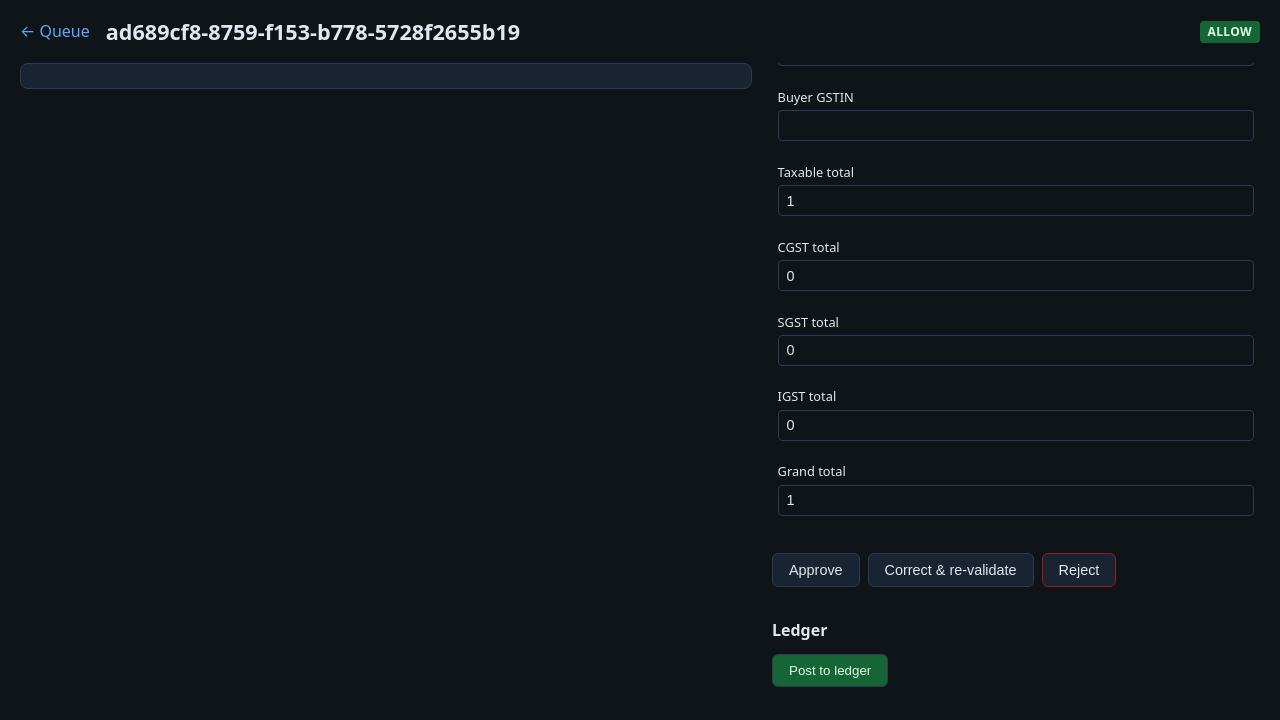
Test: InvoiceDetail API errors › shows toast on 500 post without enabling ledger meta
The width and height of the screenshot is (1280, 720).
(page scrolled)
Click the button "Post to ledger": (830, 671) [772,654,888,688]
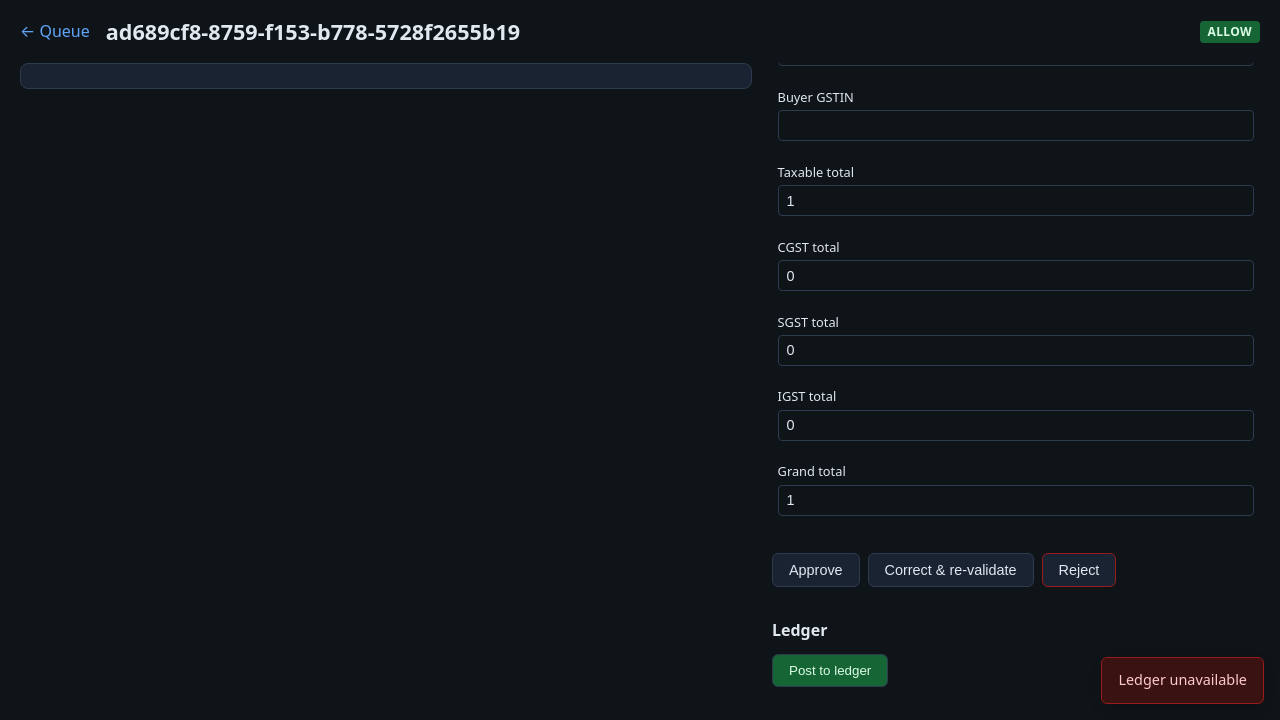
Expected: the text "Ledger unavailable" is shown, [1101,657,1264,704]
